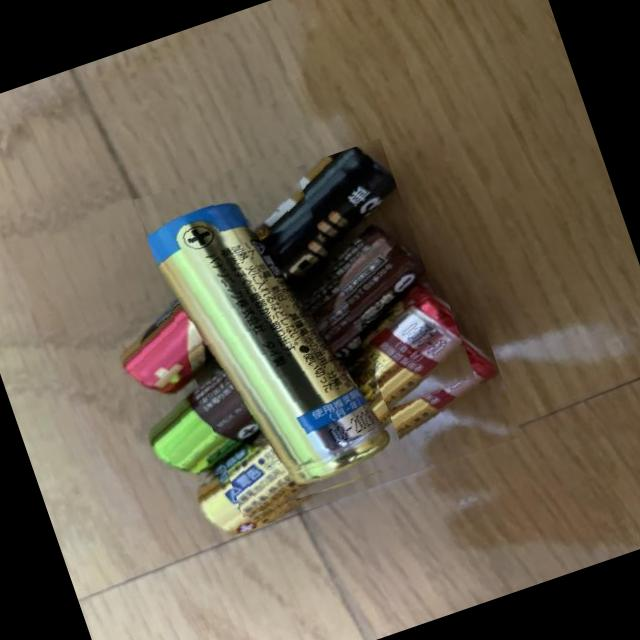Hazard: (99, 222, 478, 496), (66, 137, 438, 416), (133, 141, 407, 515), (146, 274, 522, 545)
